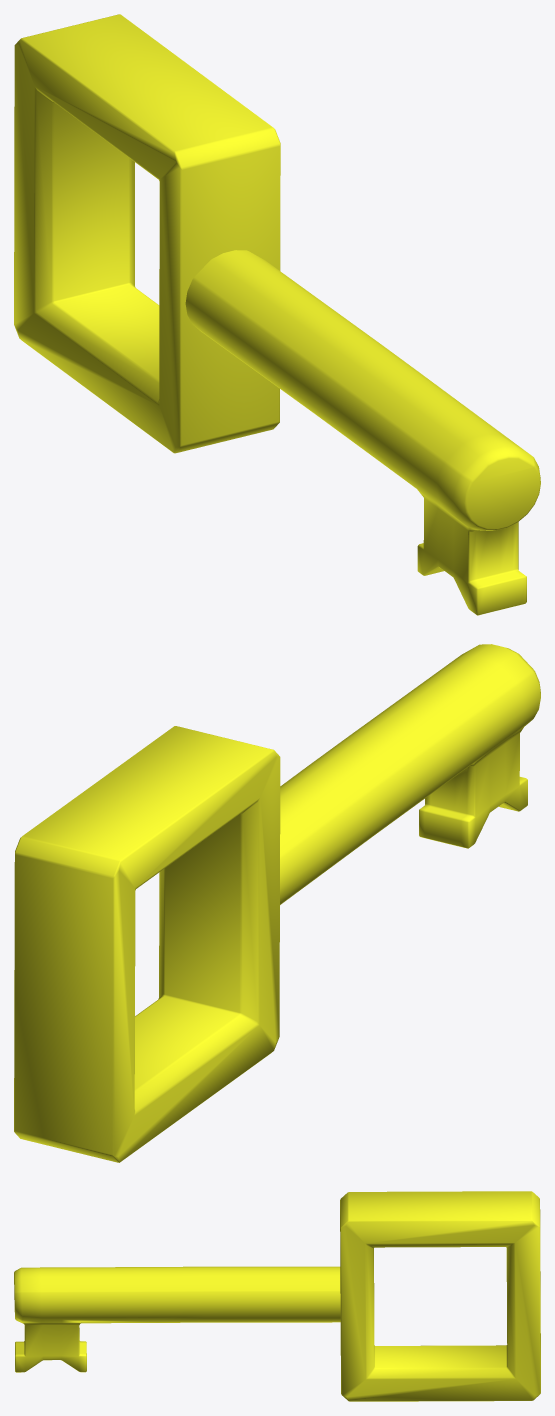
Rendered from Key3.fbx.
3 views of the same model, one above another, from view 1: azimuth 30°, elevation 25°; view 2: azimuth 150°, elevation 25°; view 3: azimuth 270°, elevation 25° (orthographic). The views are drawn at different scales.
Parts seen in each view (by area): view 1: key_03; view 2: key_03; view 3: key_03.
Boxes of the visible parts, left/top/right/bottom form: key_03: left=14, top=14, right=540, bottom=615; key_03: left=14, top=644, right=540, bottom=1162; key_03: left=14, top=1191, right=540, bottom=1401.
Bounding box in the file's own units: 58.14 × 168 × 440.
